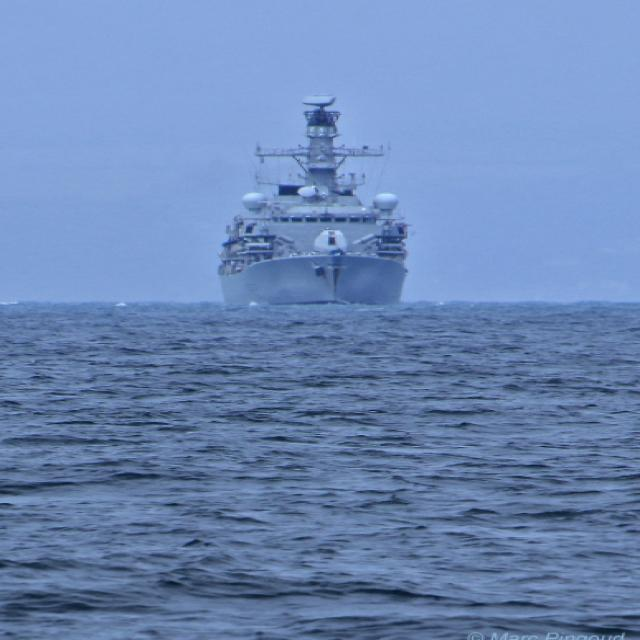Fragata: (214, 90, 431, 310)
